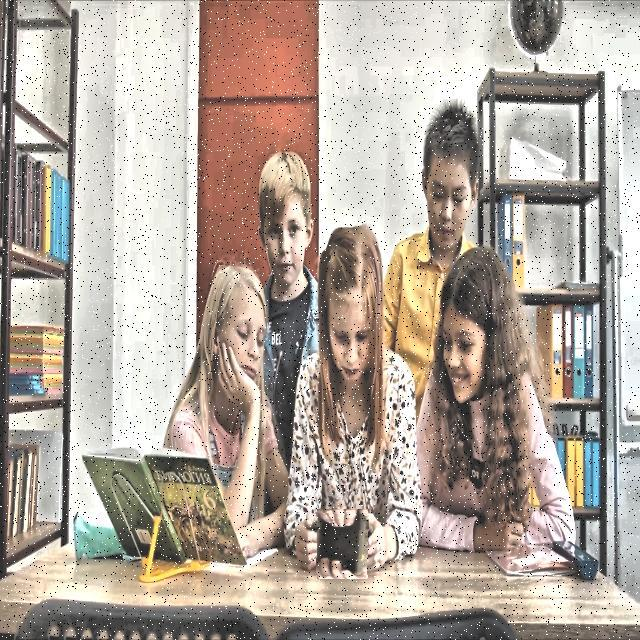Phone: (311, 514, 373, 574)
